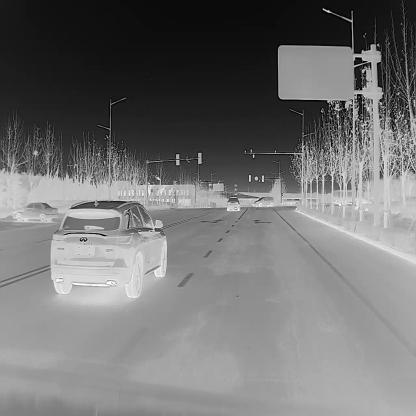car: (49, 198, 167, 296), (12, 201, 58, 222), (253, 194, 275, 208), (226, 196, 240, 211), (153, 218, 163, 229)
